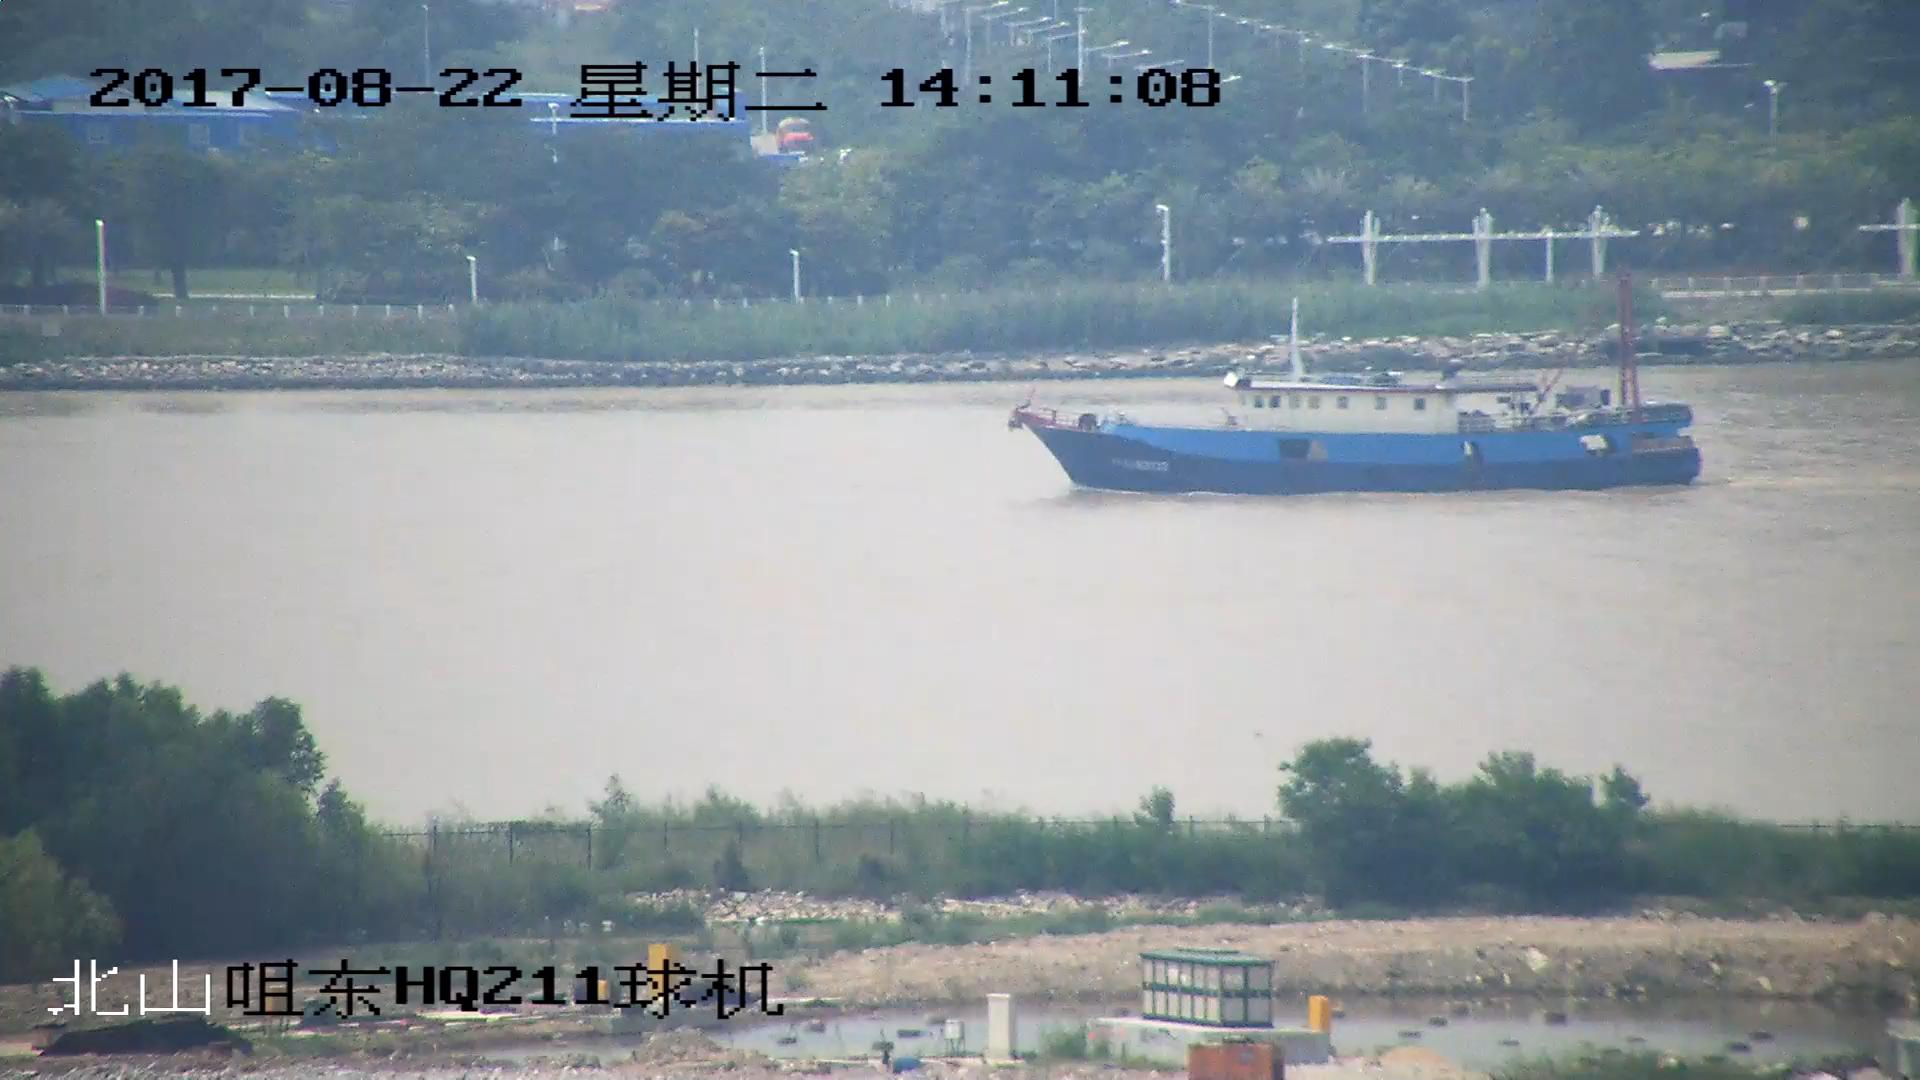fishing boat: (1013, 269, 1702, 496)
